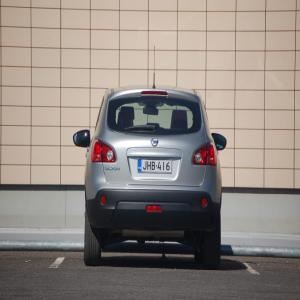Vehicle-registration-plate: (138, 160, 173, 174)
